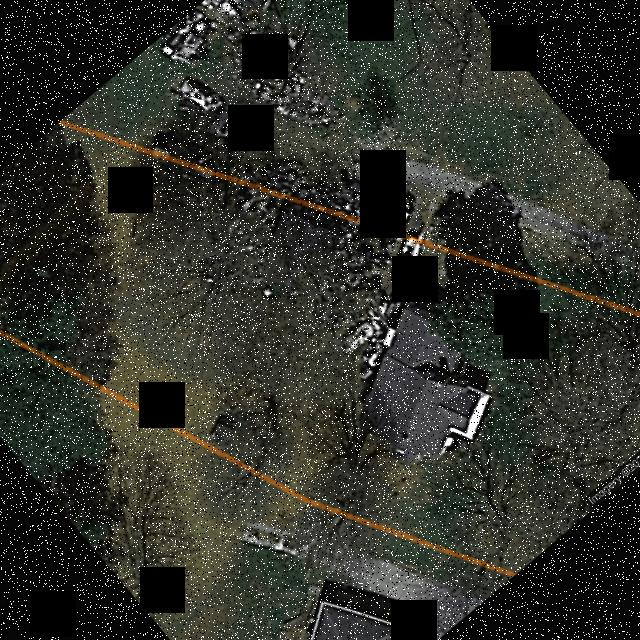Extra Lawn: (424, 195, 640, 310)
House: (357, 307, 484, 463), (257, 212, 340, 290)
